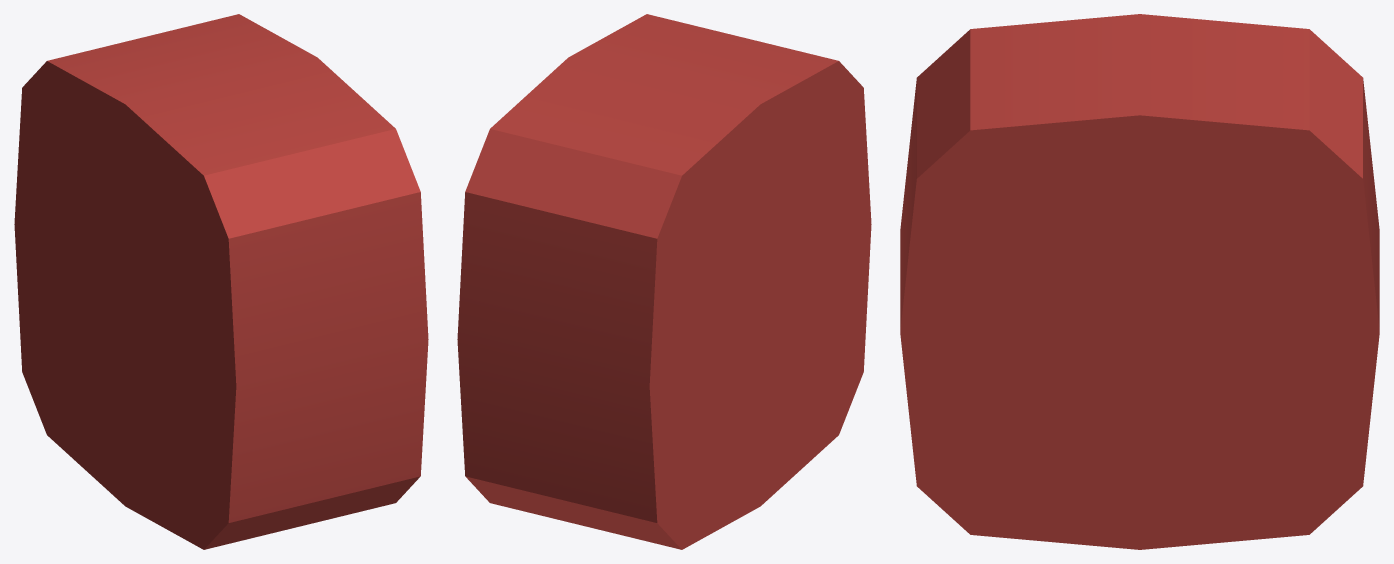
File: spar_beam_lod1.glb
3 views of the same model, side by side, from view 1: azimuth 30°, elevation 25°; view 2: azimuth 150°, elevation 25°; view 3: azimuth 270°, elevation 25° (orthographic). The views are drawn at different scales.
Visible parts, largest first — view 1: spar_beam_lod1; view 2: spar_beam_lod1; view 3: spar_beam_lod1.
Boxes of the visible parts, x1,y1,x2,y2 form: spar_beam_lod1: [14, 14, 428, 549]; spar_beam_lod1: [457, 14, 871, 549]; spar_beam_lod1: [900, 14, 1379, 549].
Bounding box in the file's own units: 1 × 2 × 2.
